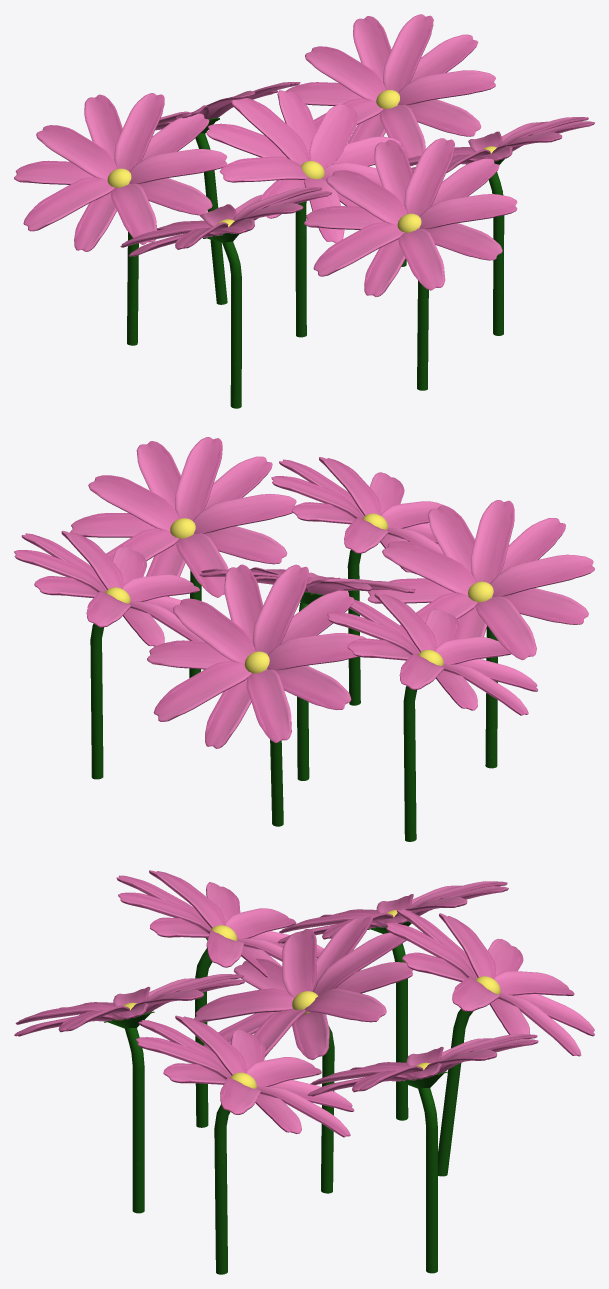
The model's file is DaisyModelPink.fbx.
The picture shows the model from 3 angles, top to bottom: view 1: azimuth 30°, elevation 25°; view 2: azimuth 150°, elevation 25°; view 3: azimuth 270°, elevation 25°; orthographic projection. The views are drawn at different scales.
Parts seen in each view (by area): view 1: Petal1 (×5), Stem1 (×6), Petal7 (×6), Petal8 (×5), Petal3 (×5), Petal5 (×3), Petal10 (×4), Petal4 (×4), Petal2 (×4), Petal6 (×4), Petal9 (×4); view 2: Petal7 (×7), Petal1 (×6), Petal3 (×6), Petal8 (×6), Stem1 (×6), Petal6 (×6), Petal9 (×5), Petal4 (×5), Petal2 (×6), Petal10 (×5), Petal5 (×6); view 3: Stem1 (×7), Petal1 (×6), Petal7 (×6), Petal3 (×5), Petal8 (×5), Petal9 (×4), Petal2 (×4), Petal6 (×4), Petal10 (×5), Petal5 (×4), Petal4 (×4).
Part boxes in pixels (bbox=[...]): Petal1 (×5): bbox=[114, 46, 454, 249]; Stem1 (×6): bbox=[127, 118, 504, 408]; Petal7 (×6): bbox=[74, 70, 588, 251]; Petal8 (×5): bbox=[23, 90, 502, 260]; Petal3 (×5): bbox=[141, 82, 407, 226]; Petal5 (×3): bbox=[138, 14, 433, 276]; Petal10 (×4): bbox=[36, 99, 481, 296]; Petal4 (×4): bbox=[129, 16, 391, 229]; Petal2 (×4): bbox=[84, 94, 412, 205]; Petal6 (×4): bbox=[111, 34, 499, 244]; Petal9 (×4): bbox=[14, 113, 445, 290]; Petal7 (×7): bbox=[61, 457, 537, 742]; Petal1 (×6): bbox=[86, 476, 594, 664]; Petal3 (×6): bbox=[123, 500, 514, 654]; Petal8 (×6): bbox=[123, 441, 536, 748]; Stem1 (×6): bbox=[90, 550, 497, 841]; Petal6 (×6): bbox=[21, 459, 511, 709]; Petal9 (×5): bbox=[153, 437, 487, 721]; Petal4 (×5): bbox=[34, 518, 565, 652]; Petal2 (×6): bbox=[128, 502, 474, 660]; Petal10 (×5): bbox=[112, 456, 588, 689]; Petal5 (×6): bbox=[14, 527, 477, 670]; Stem1 (×7): bbox=[104, 921, 473, 1274]; Petal1 (×6): bbox=[130, 870, 537, 1075]; Petal7 (×6): bbox=[58, 916, 574, 1114]; Petal3 (×5): bbox=[118, 892, 476, 1086]; Petal8 (×5): bbox=[163, 908, 594, 1084]; Petal9 (×4): bbox=[15, 929, 581, 1079]; Petal2 (×4): bbox=[150, 917, 466, 1111]; Petal6 (×4): bbox=[194, 912, 523, 1133]; Petal10 (×5): bbox=[138, 881, 529, 1076]; Petal5 (×4): bbox=[203, 913, 497, 1137]; Petal4 (×4): bbox=[116, 875, 477, 1068].
Size of the model in its own units: 0.4033 by 0.18 by 0.3761.
3 materials, 3 textured.
